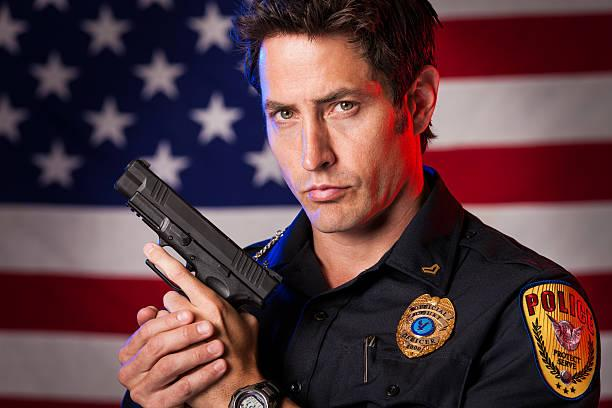weapon: (109, 154, 282, 324)
